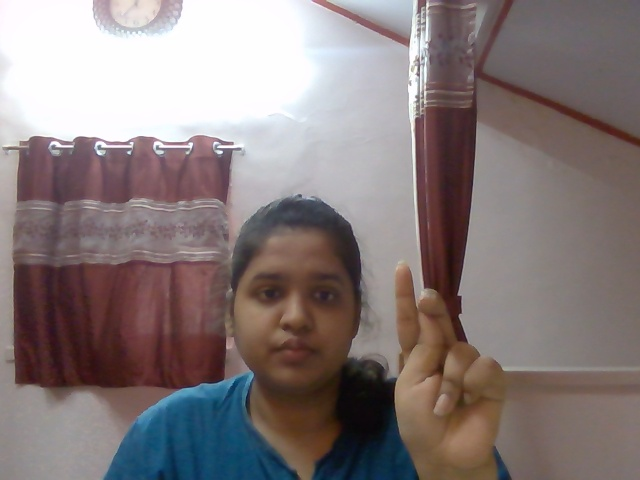k: (379, 249, 510, 467)
